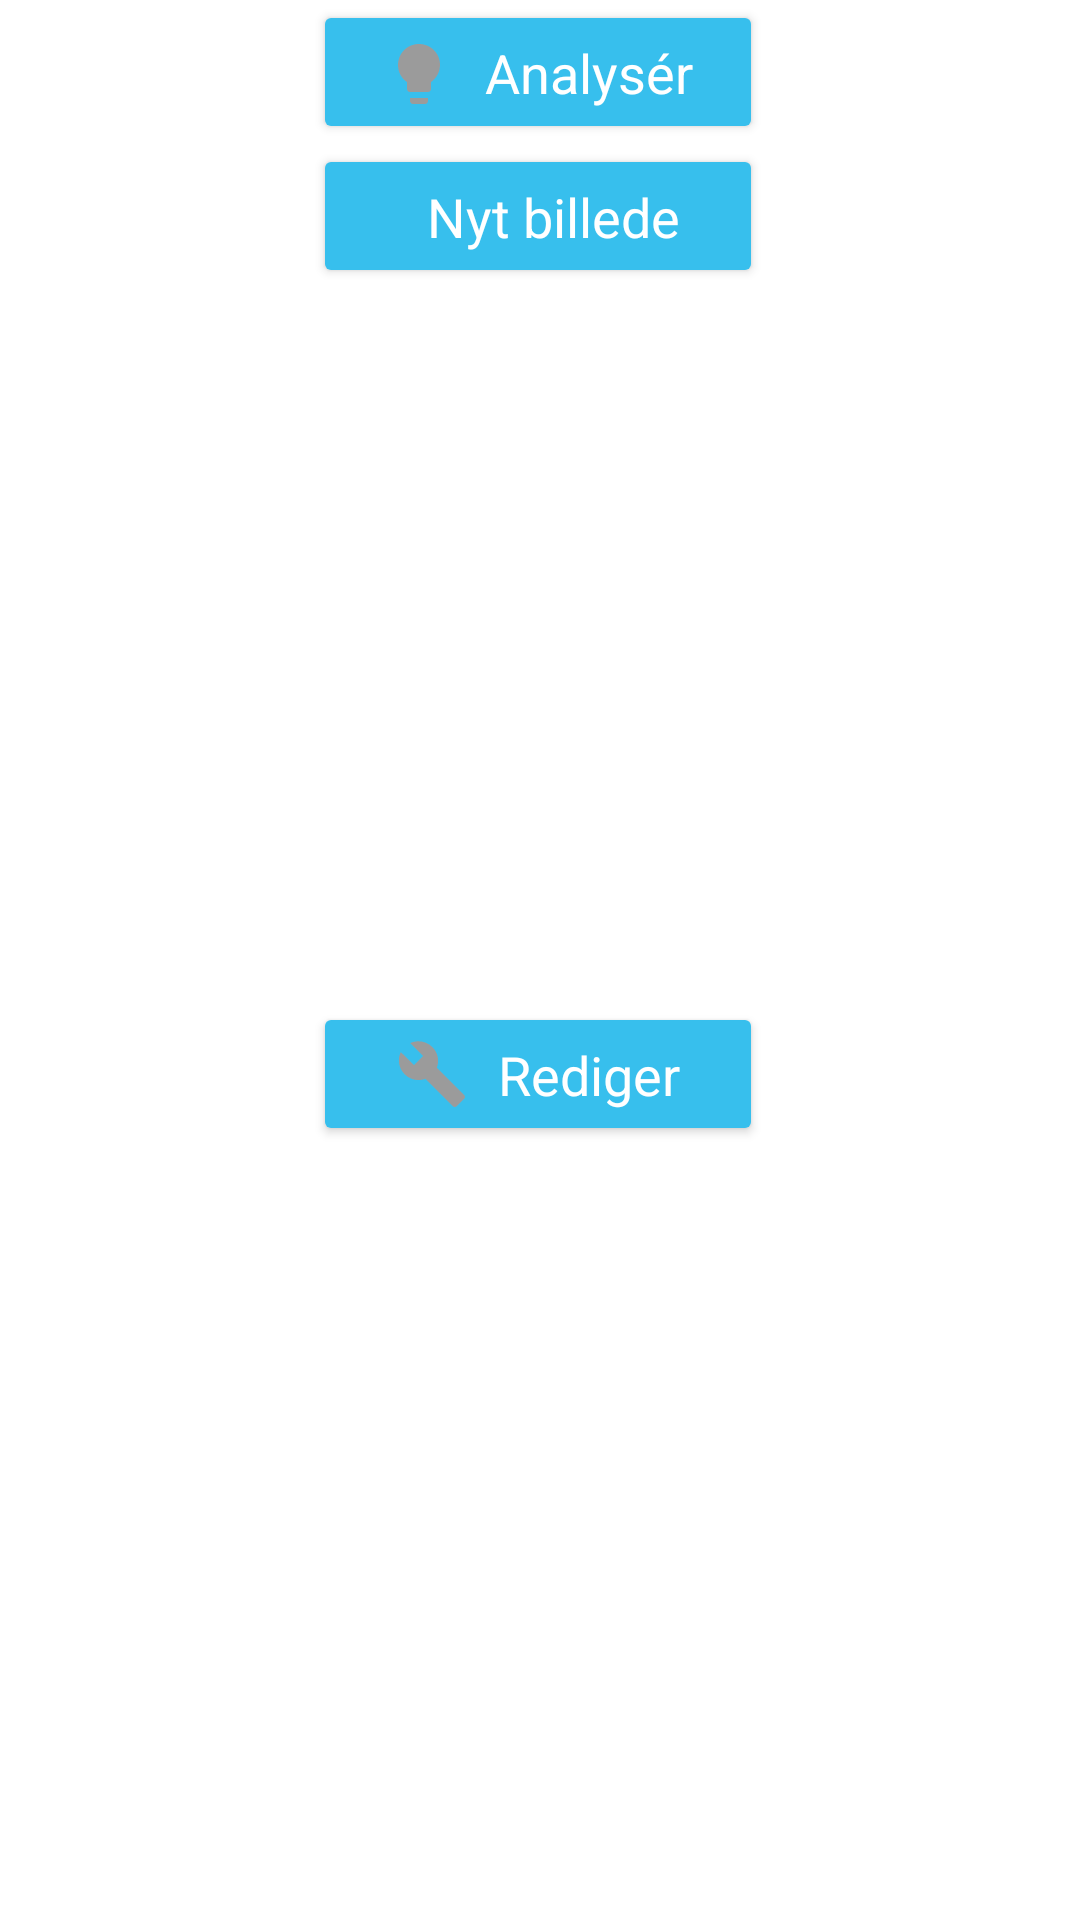

Icons on this 1080x1920 Android screen, each with its box as (x1, y1, x2, y2):
build: (399, 1041, 465, 1107)
lightbulb: (398, 44, 440, 104)
